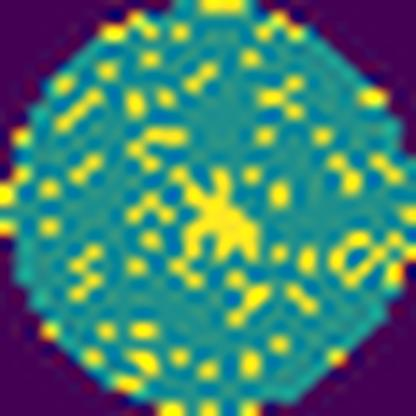Center: (169, 164, 266, 274)
